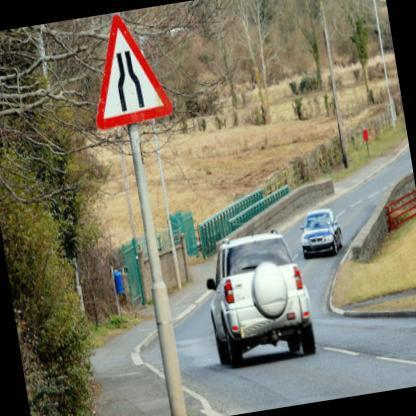road_sign: (96, 14, 172, 129)
